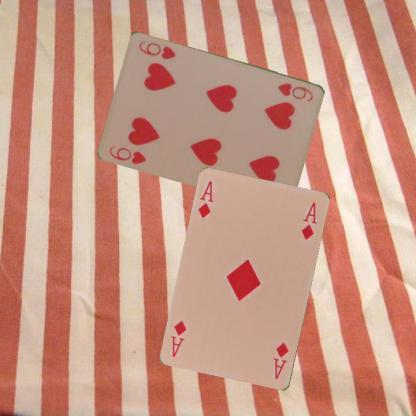6h: (275, 80, 315, 104), (107, 143, 148, 165)
Ad: (195, 178, 215, 221), (271, 340, 290, 380)
